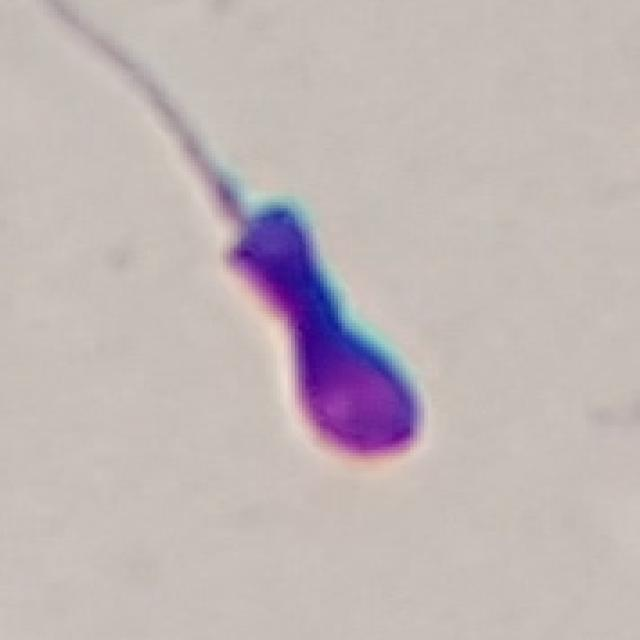abnormal sperm: (36, 2, 444, 480)
